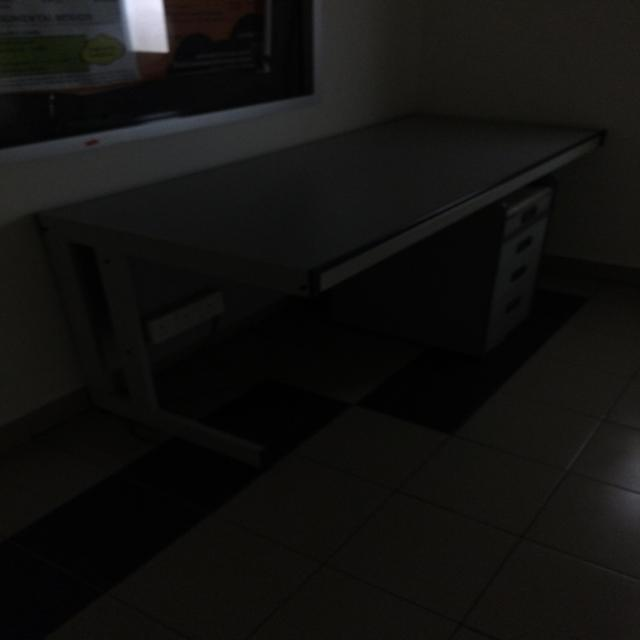Table: (0, 82, 612, 502)
